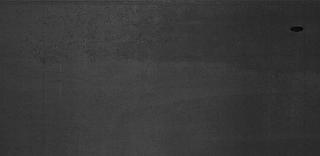punching hole: (290, 25, 306, 33)
silk spot: (21, 4, 193, 64)
